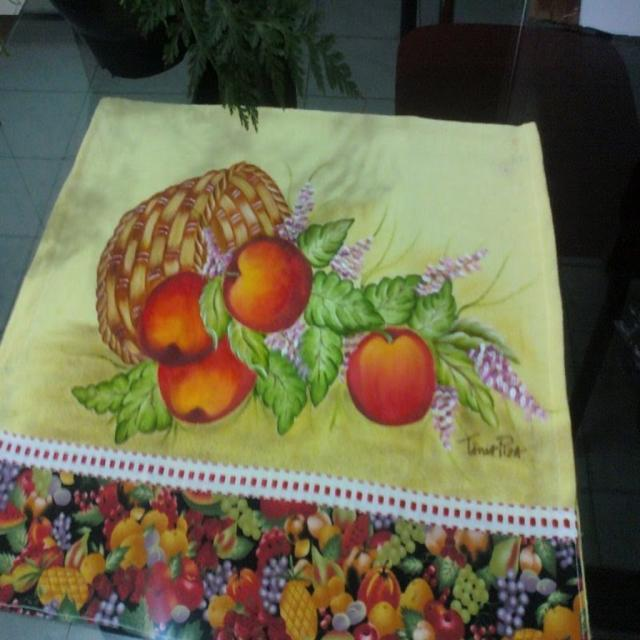Apple pie: (153, 333, 255, 423), (338, 334, 435, 426), (136, 270, 228, 365), (222, 241, 314, 332), (146, 583, 176, 629), (433, 609, 471, 639), (174, 572, 202, 606), (353, 621, 375, 639)
